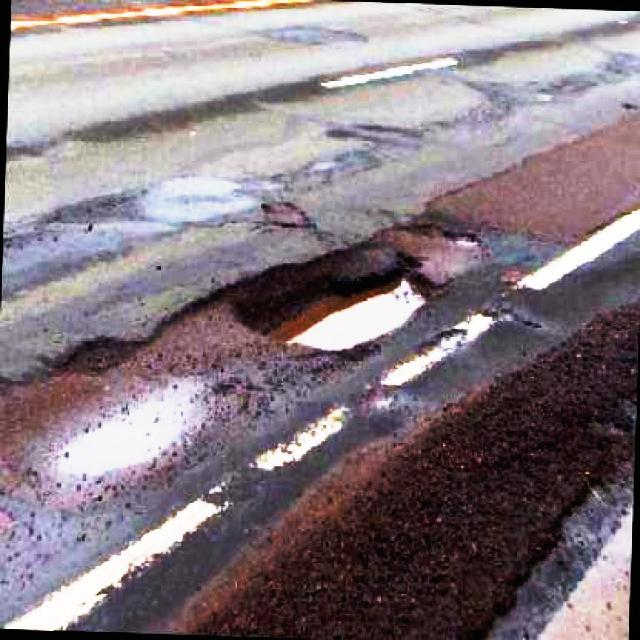pothole: (223, 252, 439, 358), (60, 328, 148, 377)
